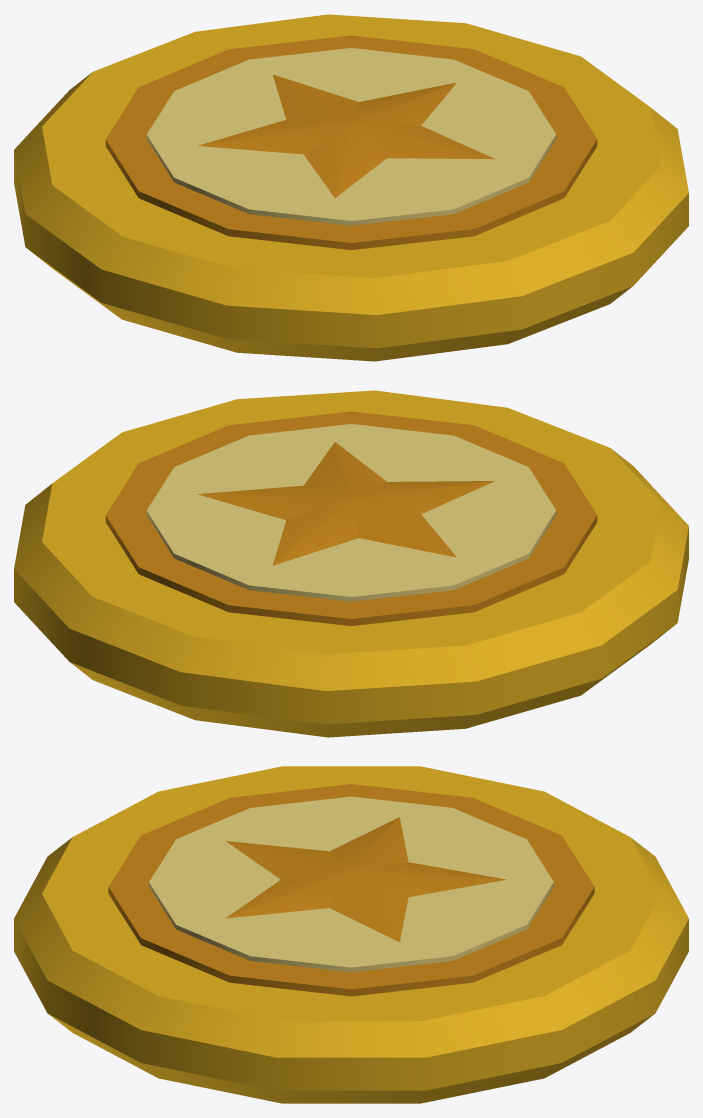
File: p_coin.glb
3 renders of one model, top to bottom at view 1: azimuth 30°, elevation 25°; view 2: azimuth 150°, elevation 25°; view 3: azimuth 270°, elevation 25°, orthographic.
Parts seen in each view (by area): view 1: body; view 2: body; view 3: body.
Boxes of the visible parts, <box> form: body: <box>14,14,688,361</box>; body: <box>14,390,688,737</box>; body: <box>14,766,688,1103</box>.
Size of the model in its own units: 0.507 by 0.1 by 0.52.
